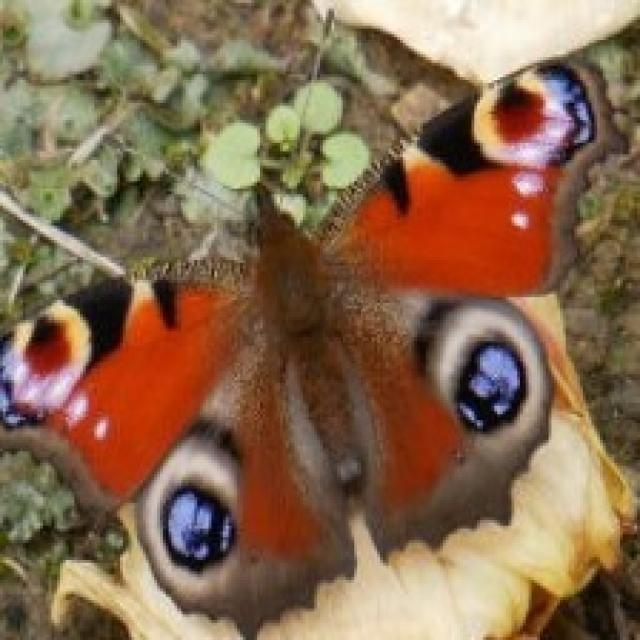butterfly: (0, 52, 637, 637)
